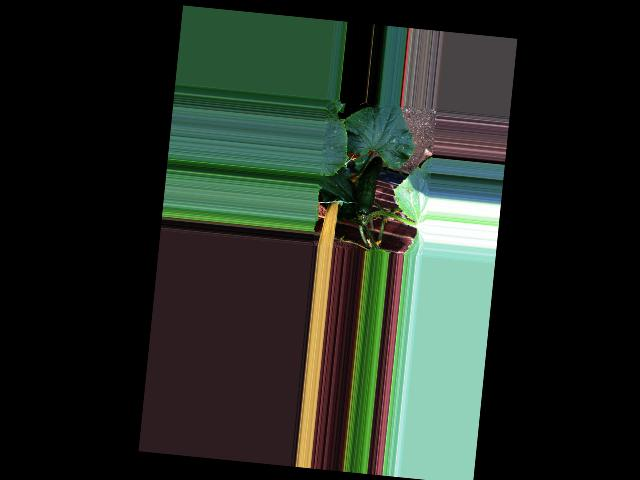cucumber: (354, 154, 384, 217)
